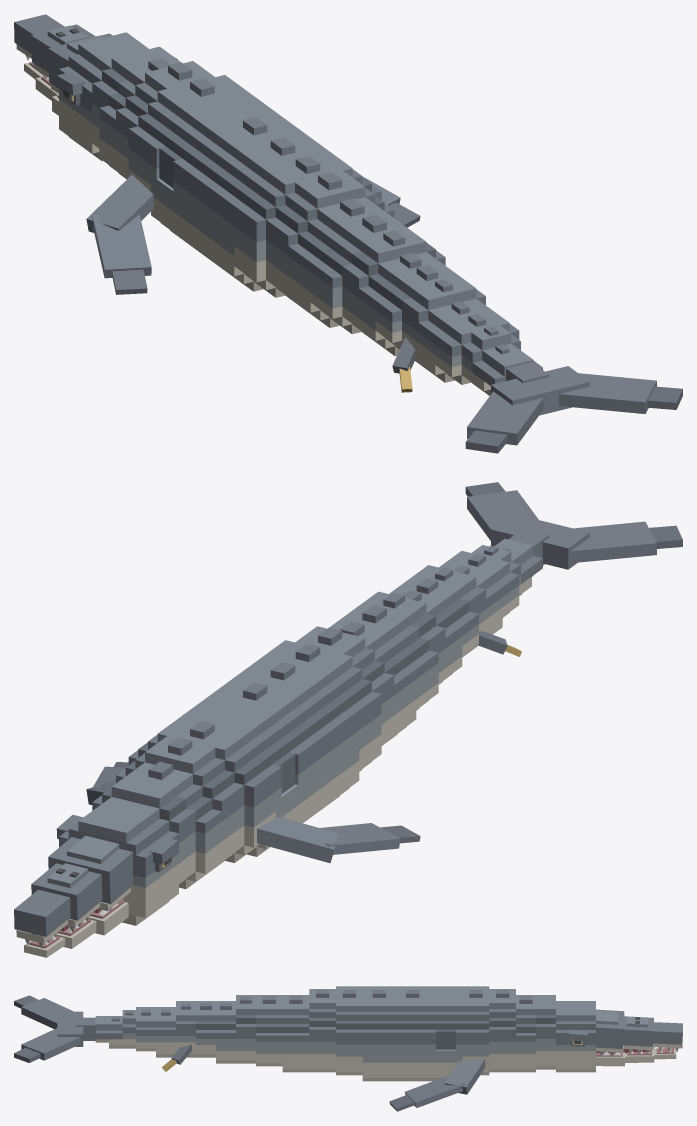
File: Basilosaurus.glb
The picture shows the model from 3 angles, top to bottom: view 1: azimuth 30°, elevation 25°; view 2: azimuth 150°, elevation 25°; view 3: azimuth 270°, elevation 25°; orthographic projection. The views are drawn at different scales.
Visible parts, largest first — view 1: Fluke, Head, S7, S6, S8, S5, FlipperL, S9, S11, S4, S10, S15 (+12 smaller); view 2: Head, Fluke, S7, S6, S4, S5, S3, FlipperL, S8, S2, S1, S11 (+10 smaller); view 3: Head, S7, S6, S5, Fluke, S8, S9, S3, S10, S4, FlipperR, S11 (+13 smaller).
Part boxes in pixels (box(x1,y1,x2,y2)): Fluke: box(465, 366, 682, 453); Head: box(14, 14, 177, 161); S7: box(206, 132, 329, 291); S6: box(178, 111, 302, 270); S8: box(234, 152, 381, 297); S5: box(151, 91, 274, 250); FlipperL: box(86, 175, 153, 294); S9: box(266, 171, 394, 311); S11: box(310, 213, 409, 334); S4: box(128, 75, 246, 191); S10: box(288, 197, 386, 327); S15: box(392, 276, 485, 392); Head: box(14, 797, 178, 948); Fluke: box(465, 482, 682, 569); S7: box(235, 656, 359, 815); S6: box(208, 677, 331, 823); S4: box(128, 717, 275, 862); S5: box(180, 697, 303, 856); S3: box(116, 736, 244, 876); FlipperL: box(257, 817, 420, 863); S8: box(263, 640, 381, 771); S2: box(128, 761, 221, 889); S1: box(92, 774, 195, 883); S11: box(340, 604, 438, 710); Head: box(556, 1001, 682, 1072); S7: box(362, 986, 395, 1081); S6: box(396, 986, 429, 1081); S5: box(429, 986, 462, 1081); Fluke: box(14, 995, 83, 1062); S8: box(336, 986, 362, 1075); S9: box(309, 989, 335, 1072); S3: box(489, 989, 515, 1072); S10: box(282, 995, 309, 1072); S4: box(462, 986, 489, 1075); FlipperR: box(389, 1058, 485, 1111); S11: box(256, 995, 282, 1066).
Size of the model in its own units: 13.92 by 5.59 by 44.14.
